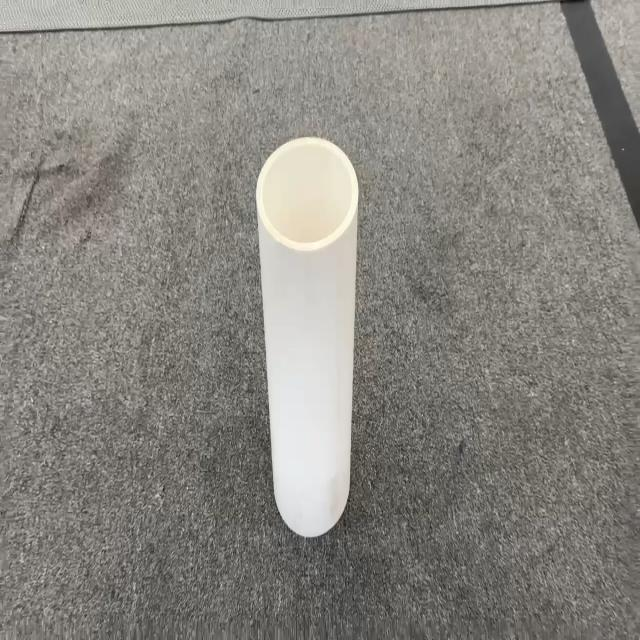coral: (255, 134, 359, 537)
